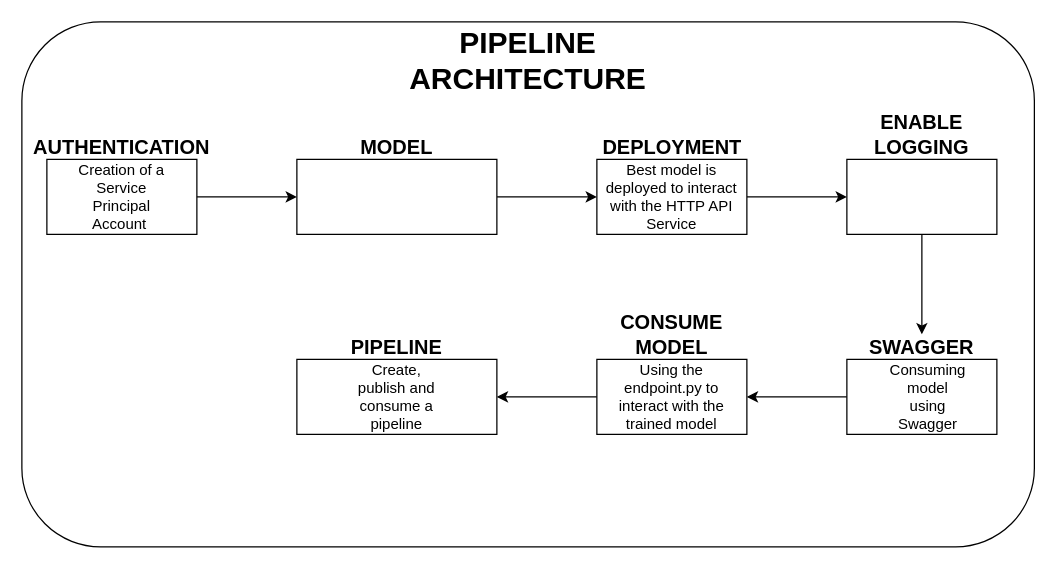
The diagram is 1056 pixels wide and 569 high, and some of its shapes have lost their labels. The centre of each missing label's shape, as x and y in pixels:
"Best Model generated using AutoML to train the bankmarketing_train.csv" belongs at point 396,196.
"Enable Application Insights and retrieve logs" belongs at point 921,196.
